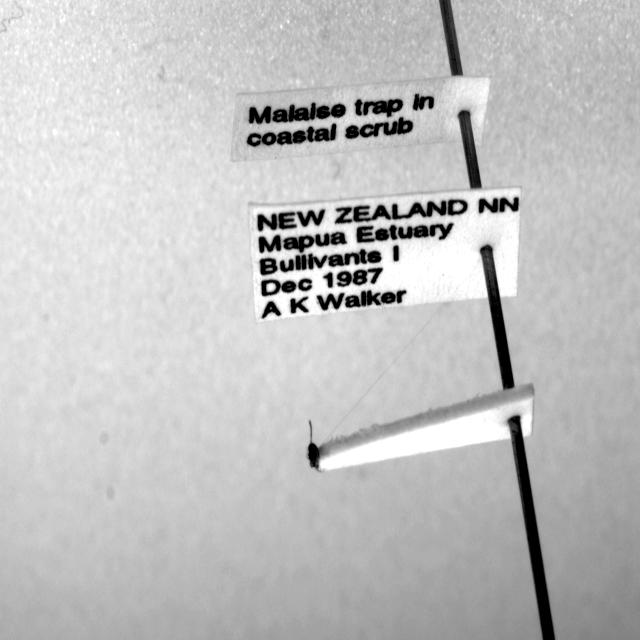typed_label: (249, 188, 521, 321), (231, 75, 491, 161)
